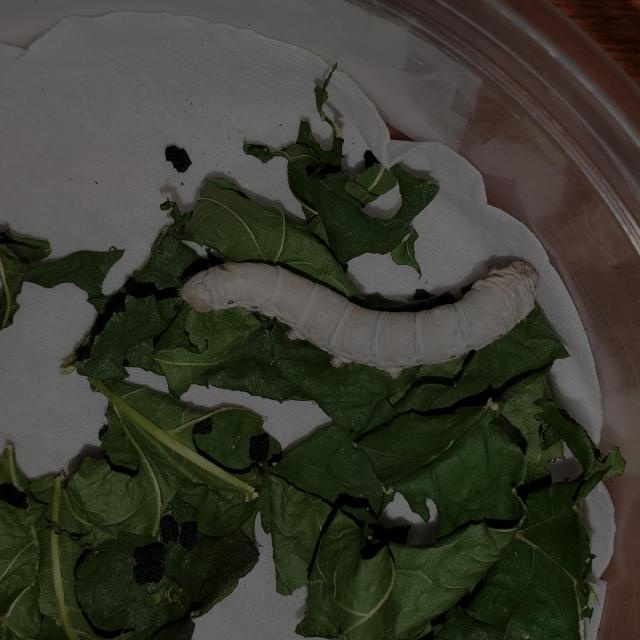Healthy: (146, 191, 572, 402)
